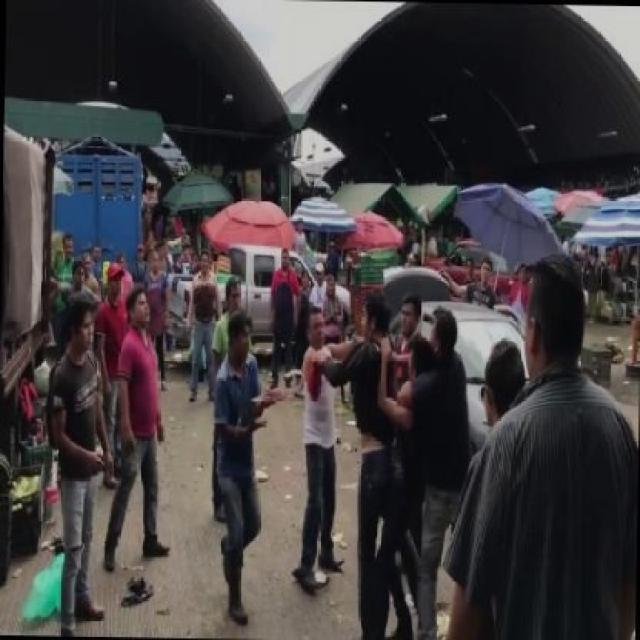fight: (294, 295, 471, 640)
non-fight: (422, 242, 638, 638), (34, 283, 126, 635), (195, 305, 283, 629)
